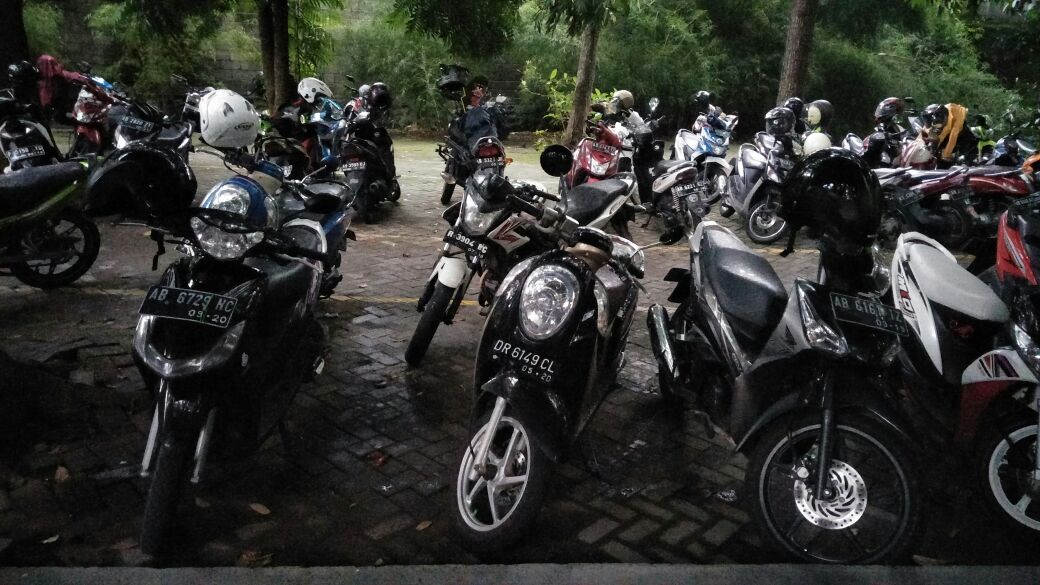plate: (140, 285, 235, 328), (491, 335, 561, 389), (830, 290, 907, 336), (444, 228, 490, 259)
